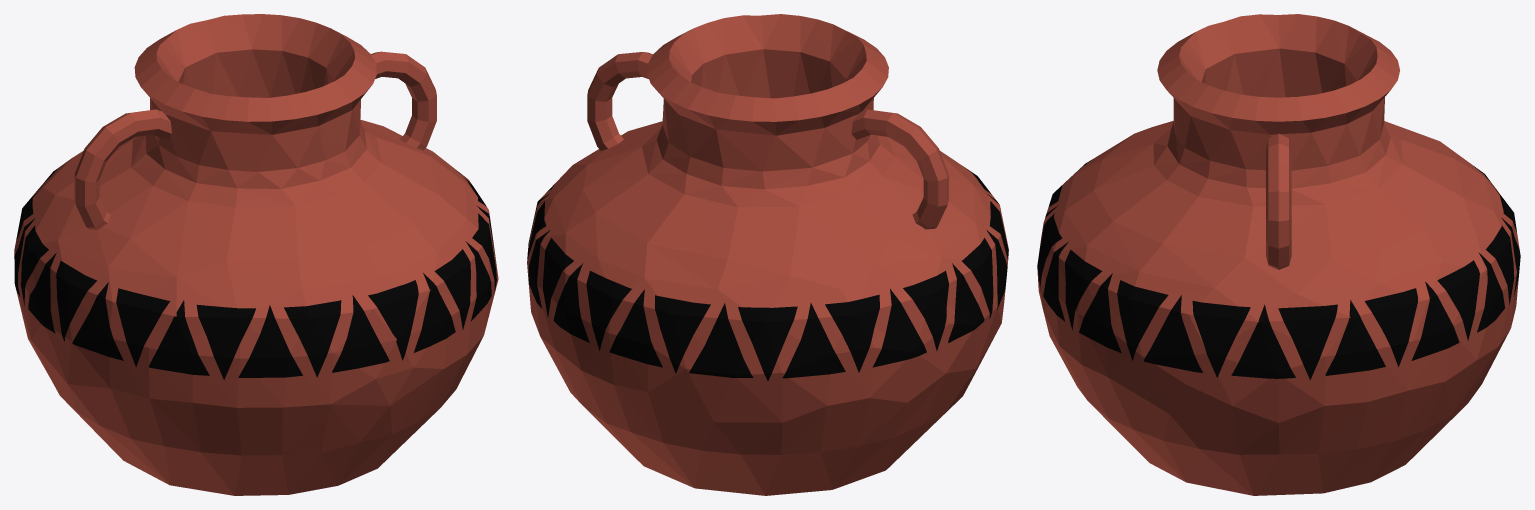
File: Pottery 23_2.fbx
3 renders of one model, left to right at view 1: azimuth 30°, elevation 25°; view 2: azimuth 150°, elevation 25°; view 3: azimuth 270°, elevation 25°, orthographic.
Visible parts, largest first — view 1: Pottery 23_2; view 2: Pottery 23_2; view 3: Pottery 23_2.
Part boxes in pixels (x1,y1,x2,y2): Pottery 23_2: (14, 14, 498, 495); Pottery 23_2: (527, 14, 1008, 495); Pottery 23_2: (1037, 14, 1520, 495).
Size of the model in its own units: 53.28 by 45.94 by 52.98.
